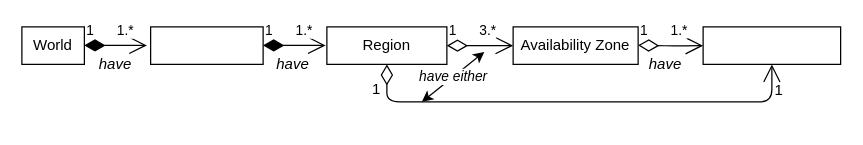
Some shapes in this 863 by 145 pixel diagram are drawn without their labels. Here are the shapes that lost their labels. From the top down, the centre of each, then its label:
(x=206, y=45): Geography
(x=771, y=45): Data center
